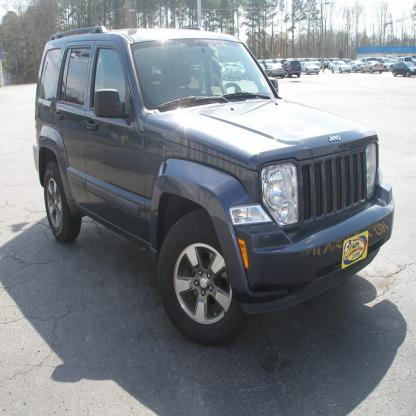car: (33, 25, 395, 349)
